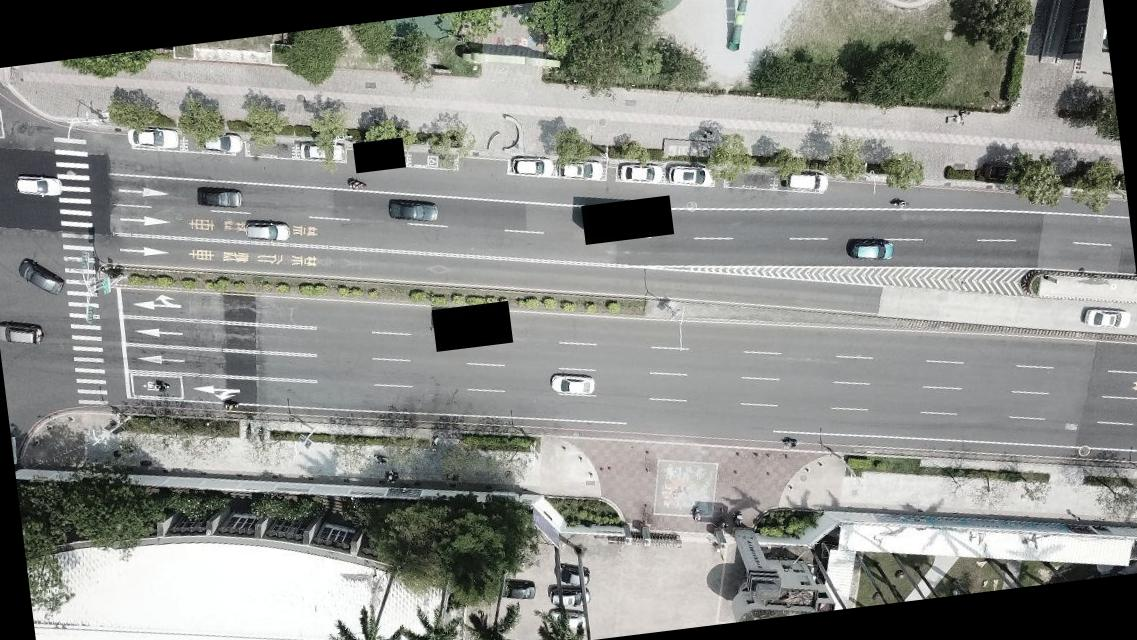vehicle: (14, 252, 61, 300), (386, 192, 440, 230), (242, 215, 292, 247), (614, 156, 664, 188), (10, 170, 62, 200), (846, 233, 892, 266), (666, 162, 715, 192), (194, 182, 243, 212), (782, 163, 829, 194), (1082, 304, 1128, 334), (0, 315, 43, 347), (127, 126, 176, 154), (543, 605, 587, 636), (548, 369, 594, 398), (558, 157, 600, 185), (546, 582, 588, 610), (298, 138, 343, 164), (495, 577, 536, 603), (204, 129, 246, 154), (506, 156, 554, 177), (554, 562, 588, 588)
